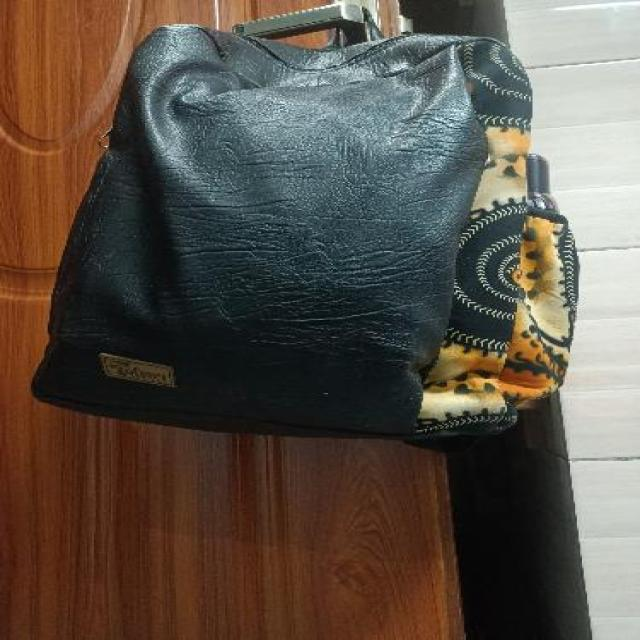canta: (31, 6, 577, 442)
